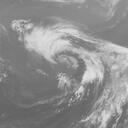cyclone: (29, 24, 94, 79)
